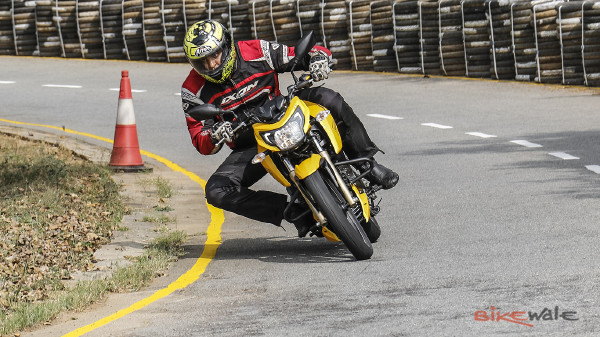helmet: (181, 17, 237, 85)
